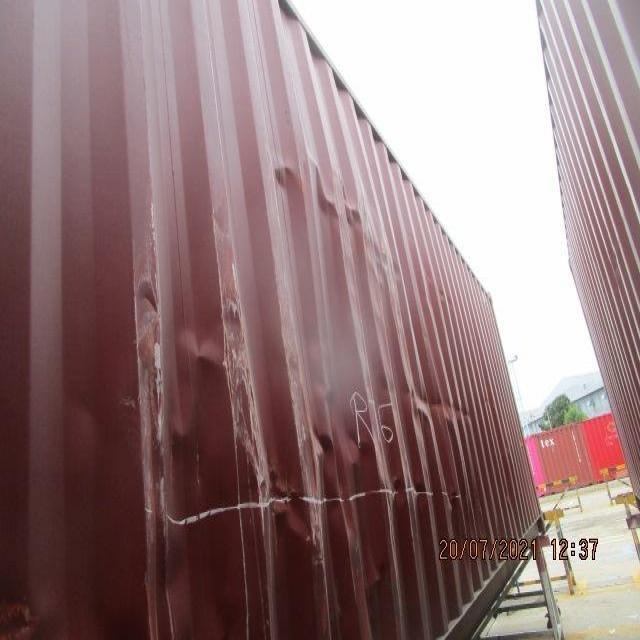dent: (98, 326, 473, 640), (251, 108, 416, 334)
